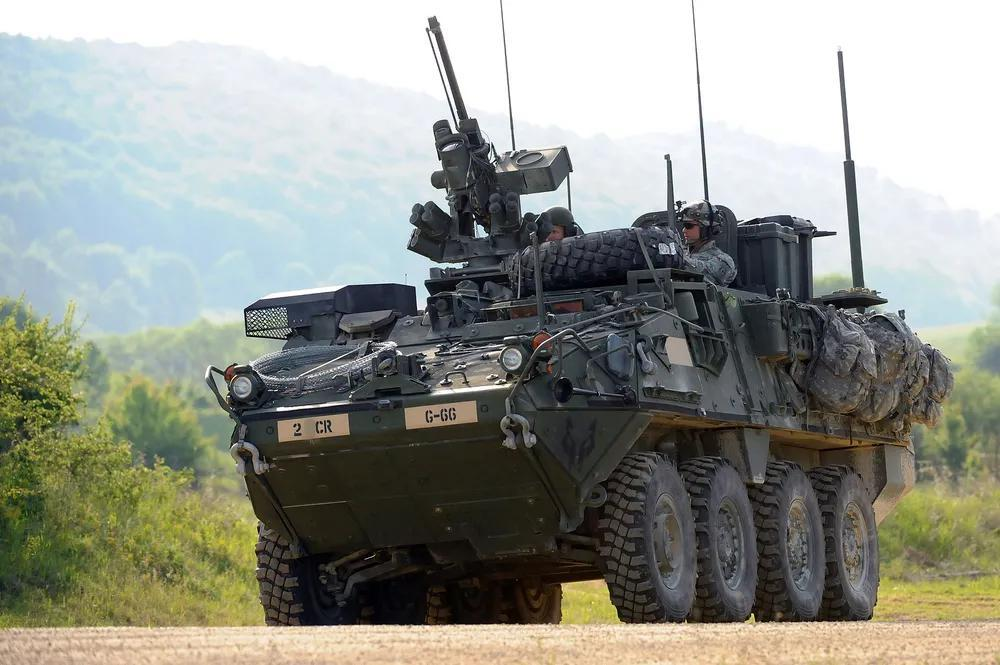MIL_IFV: (214, 37, 957, 630)
